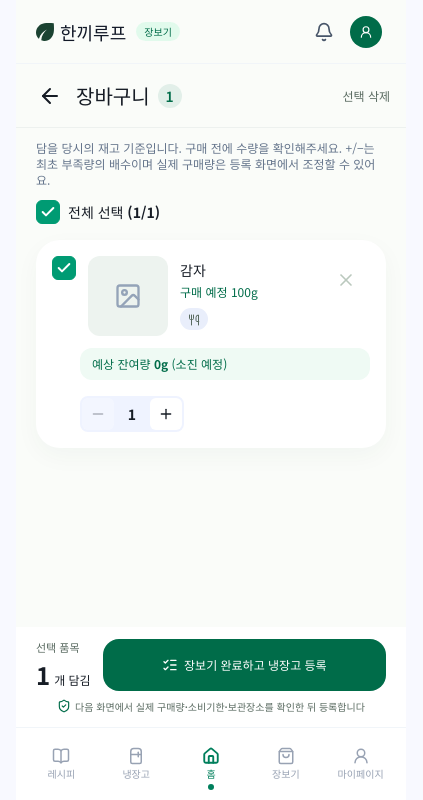
it: does not remove a card when persistence fails
The image size is (423, 800).
Step 1. Click the button named "감자 삭제" → (346,280), box top-left (330, 264), bottom-right (362, 296)
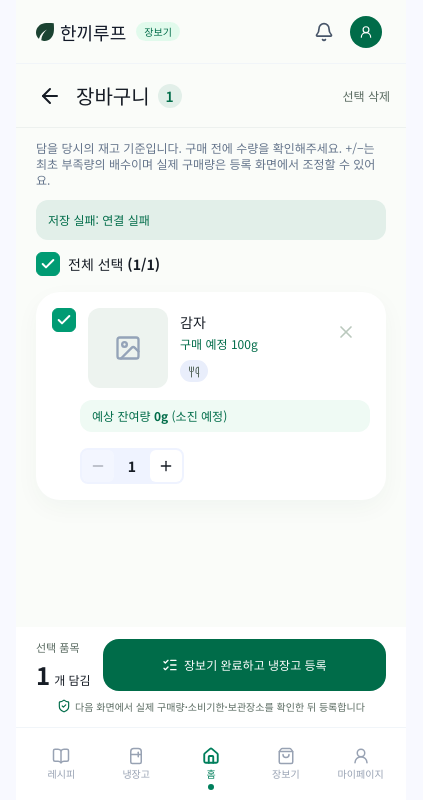
Expected: the element "감자" is shown, top-left (36, 292), bottom-right (386, 500)
Now the text "저장 실패: 연결 실패" is shown, box top-left (36, 200), bottom-right (386, 240)
